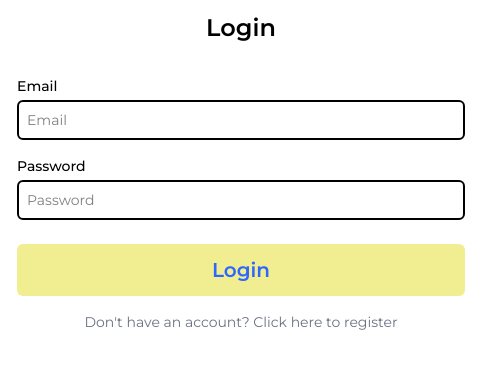
it: LoginView › should display error message if email is invalid
The width and height of the screenshot is (483, 387).
Type "invalid-email" into the field with placeholder "Email". click: (241, 120)
box: [17, 100, 465, 140]
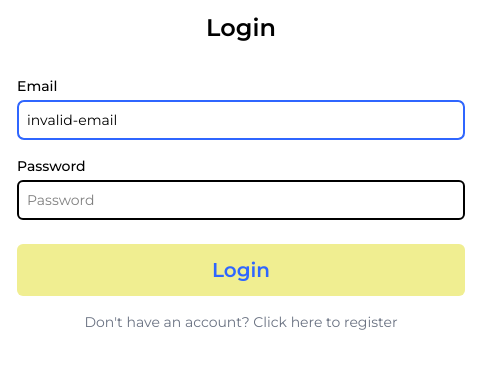
Click the button "Login". click: click(241, 270)
box: [17, 244, 465, 296]
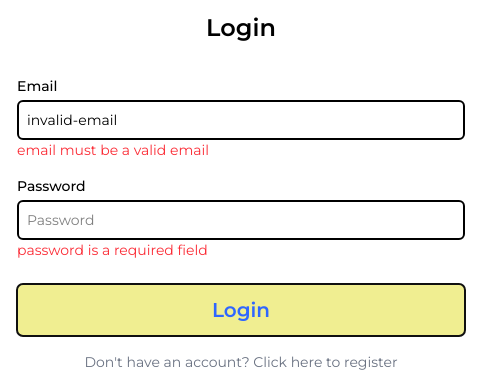
Expected: the text "email must be a valid email" is shown, [17, 141, 209, 159]
